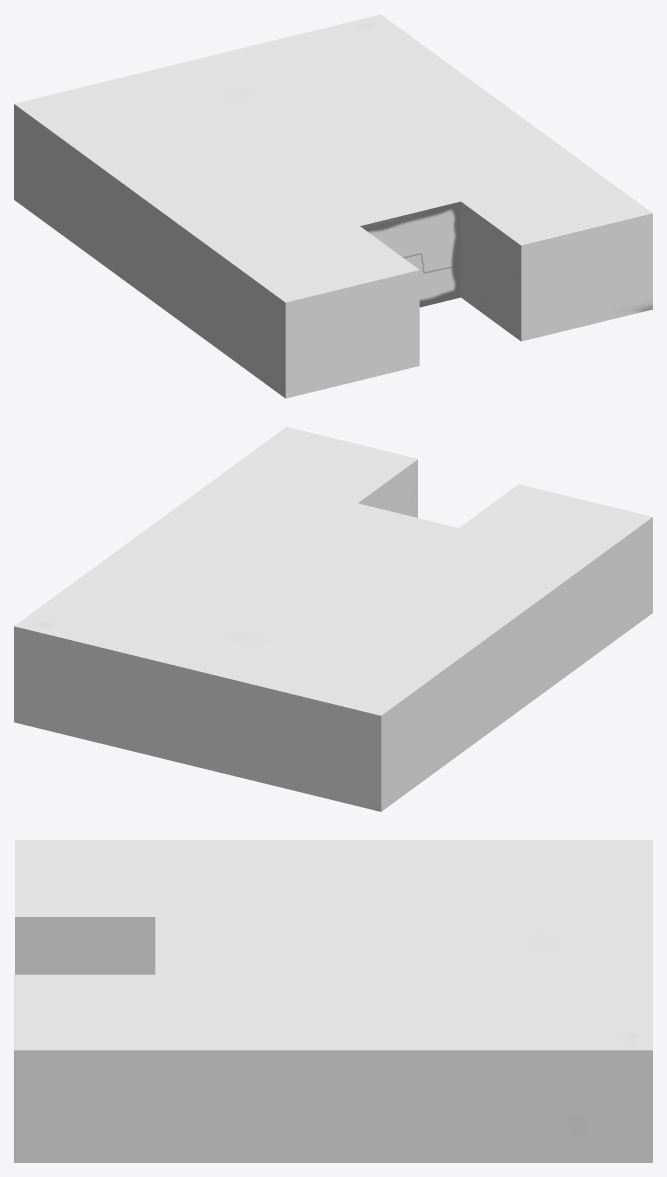
Rendered from station.obj.
3 renders of one model, top to bottom at view 1: azimuth 30°, elevation 25°; view 2: azimuth 150°, elevation 25°; view 3: azimuth 270°, elevation 25°, orthographic. The views are drawn at different scales.
Parts seen in each view (by area): view 1: Cube_Material; view 2: Cube_Material; view 3: Cube_Material.
Boxes of the visible parts, x1,y1,x2,y2 form: Cube_Material: (14,14,652,398); Cube_Material: (14,427,652,811); Cube_Material: (14,840,652,1162).
Size of the model in its own units: 8 by 2 by 10.27.
1 material, 1 textured.
